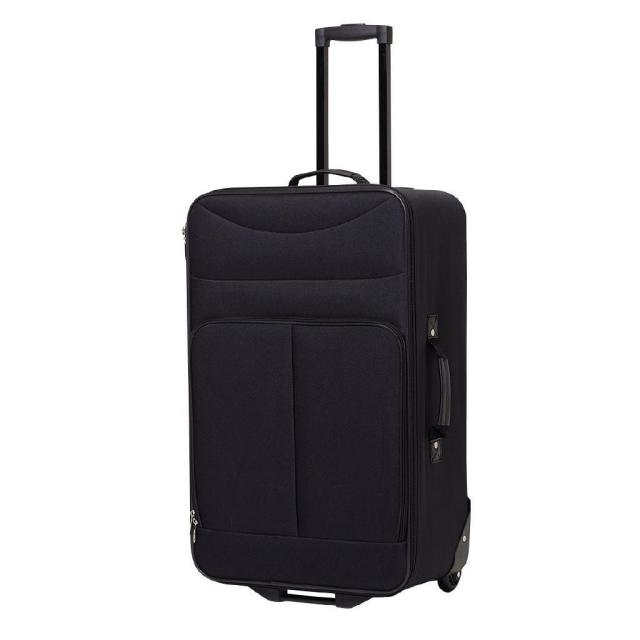luggage: (170, 165, 490, 618)
